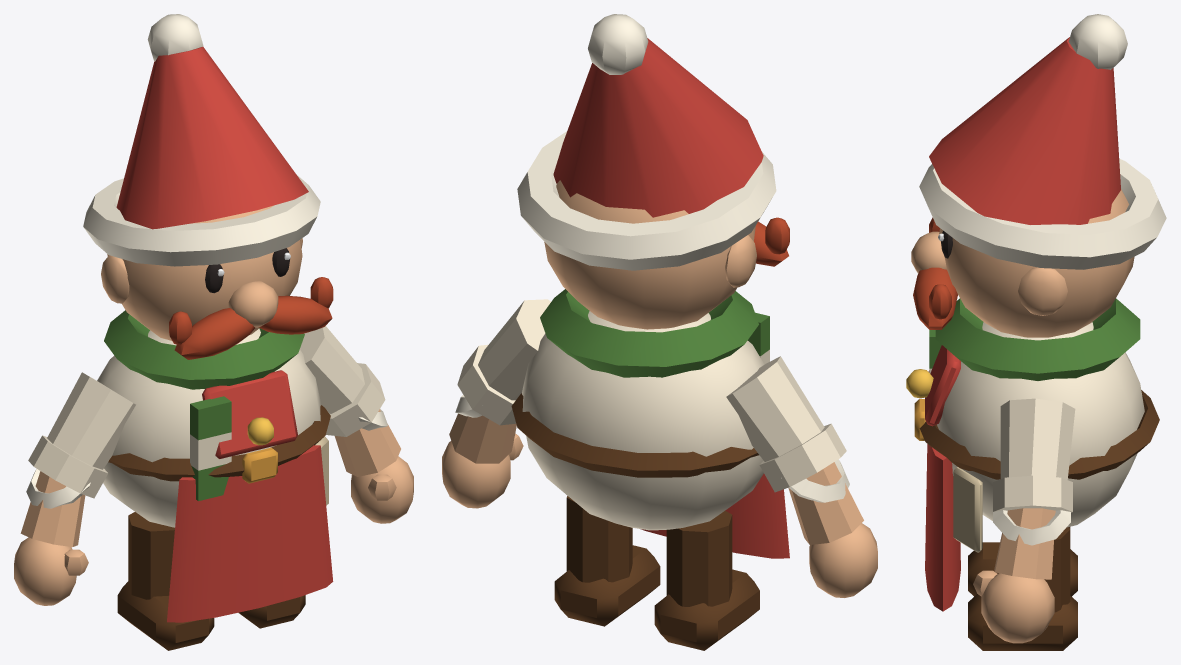
The model's file is CH_Costume_Barlo_Kis.fbx.
The picture shows the model from 3 angles, left to right: view 1: azimuth 30°, elevation 25°; view 2: azimuth 150°, elevation 25°; view 3: azimuth 270°, elevation 25°; orthographic projection. The views are drawn at different scales.
Visible parts, largest first — view 1: CH_Costume_Barlo_Kis; view 2: CH_Costume_Barlo_Kis; view 3: CH_Costume_Barlo_Kis.
Boxes of the visible parts, box(x1,y1,x2,y2) form: CH_Costume_Barlo_Kis: box(14, 14, 413, 650); CH_Costume_Barlo_Kis: box(442, 14, 877, 650); CH_Costume_Barlo_Kis: box(906, 14, 1166, 650).
Size of the model in its own units: 0.9352 by 1.33 by 0.5211.
Materials: 1 (1 with a texture image).
